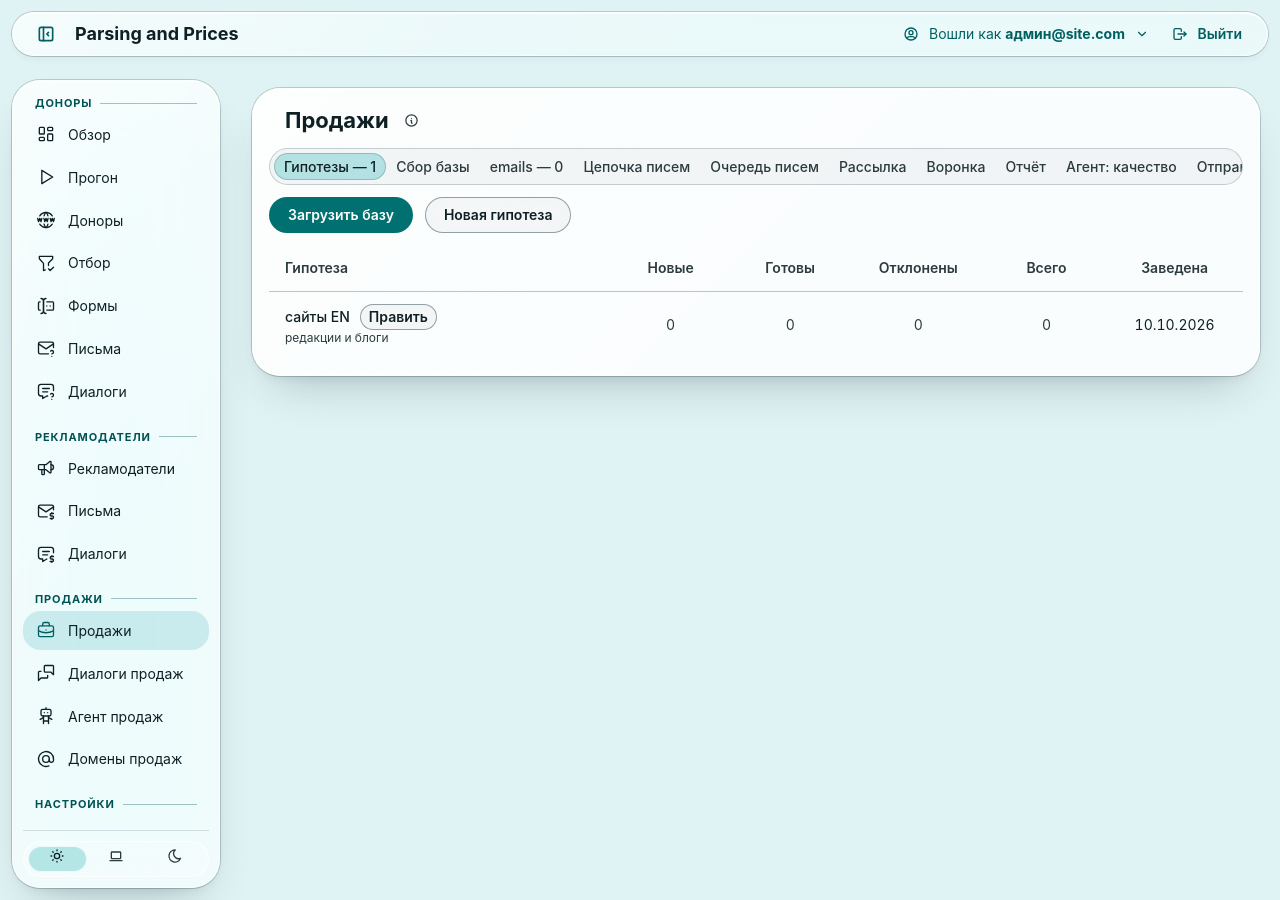
Test: новая гипотеза: вкладка «Гипотезы» › отказ сервера — словами над полями, набранное на месте, окно открыто
Expected: the text "сайты EN" is shown, [285, 307, 350, 327]
Click the button "Новая гипотеза" at (498, 216), box [425, 198, 572, 234]
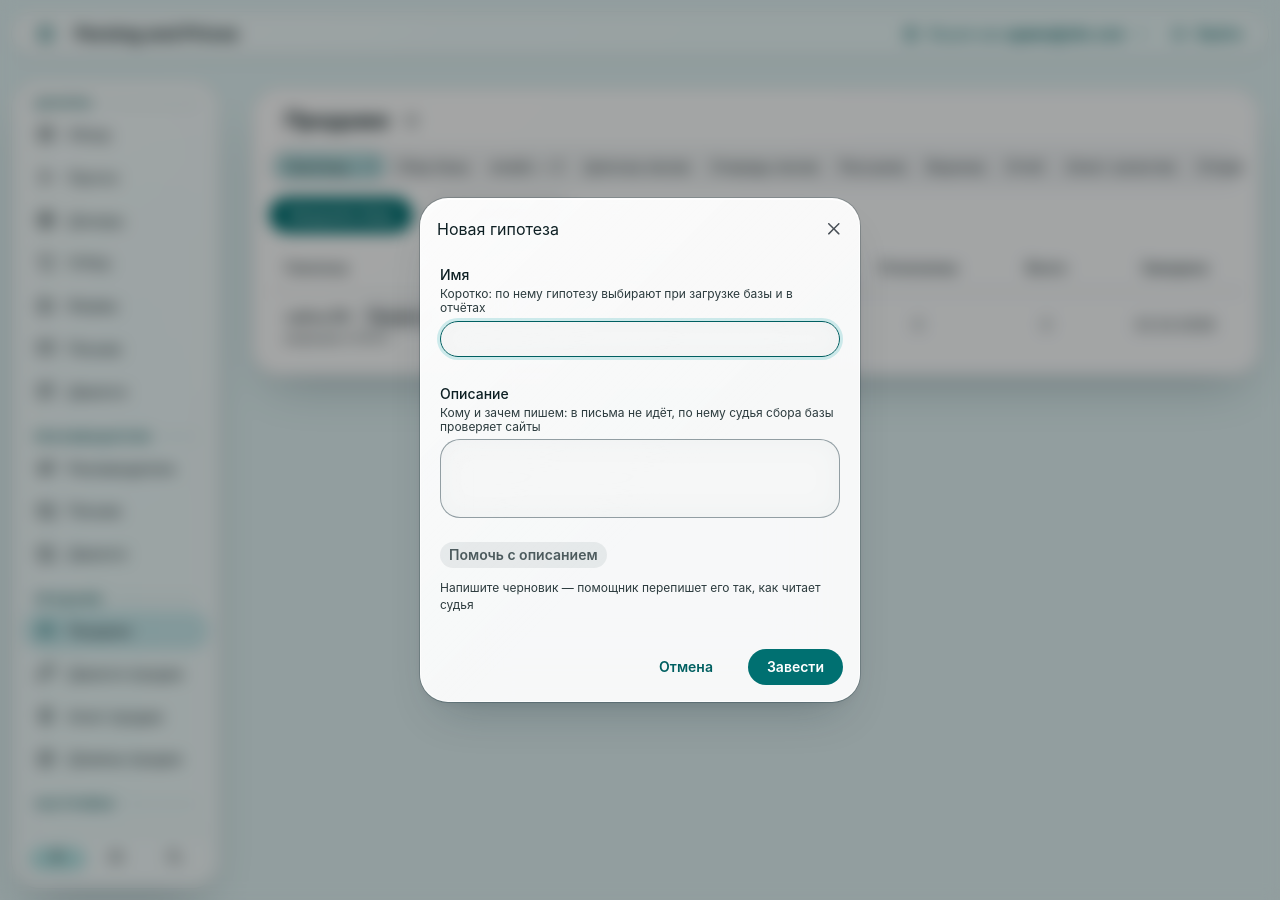
Type "сайты EN" into the field labelled "Имя" at (640, 339), box [440, 321, 840, 357]
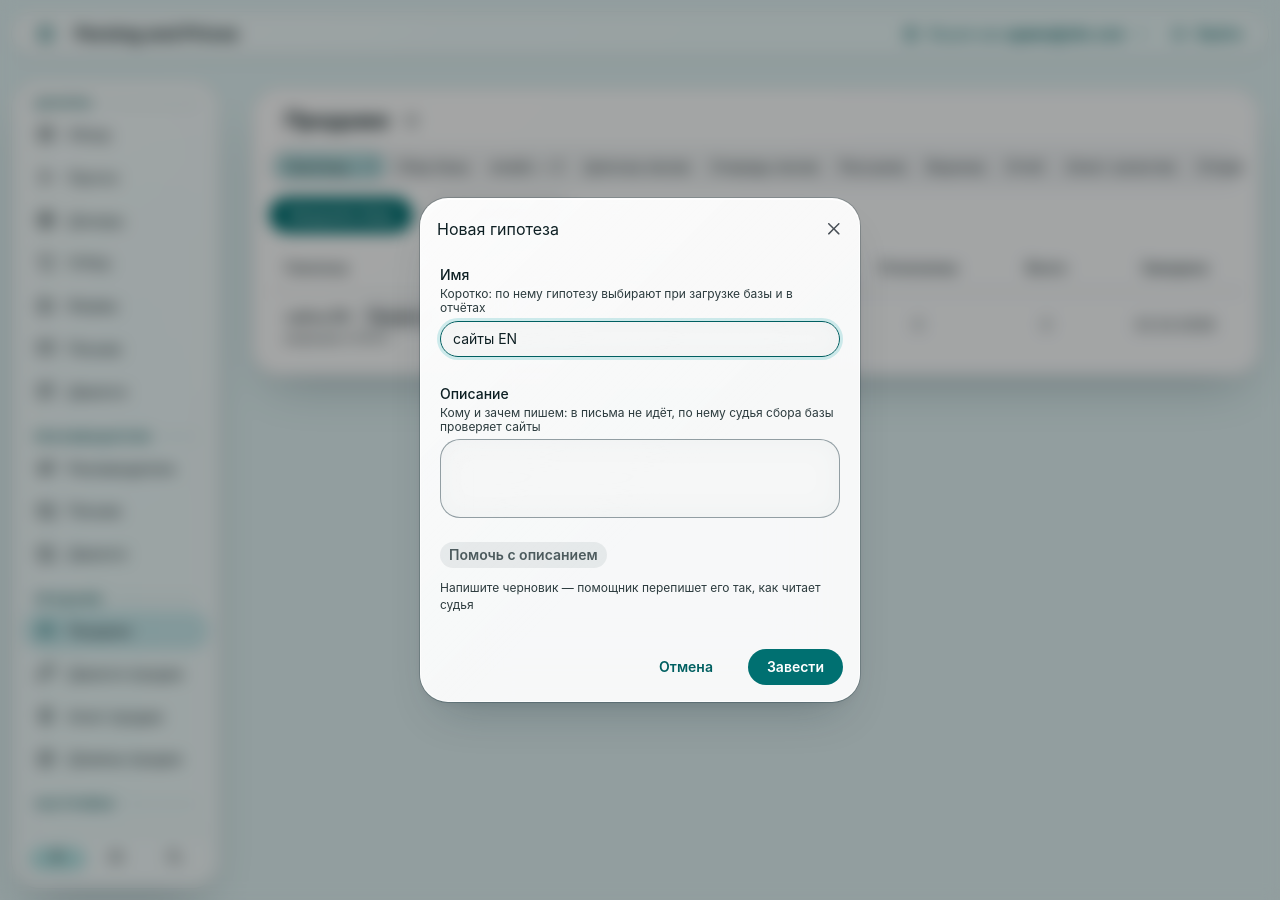
Click the button "Завести" at (796, 667), box [748, 649, 843, 685]
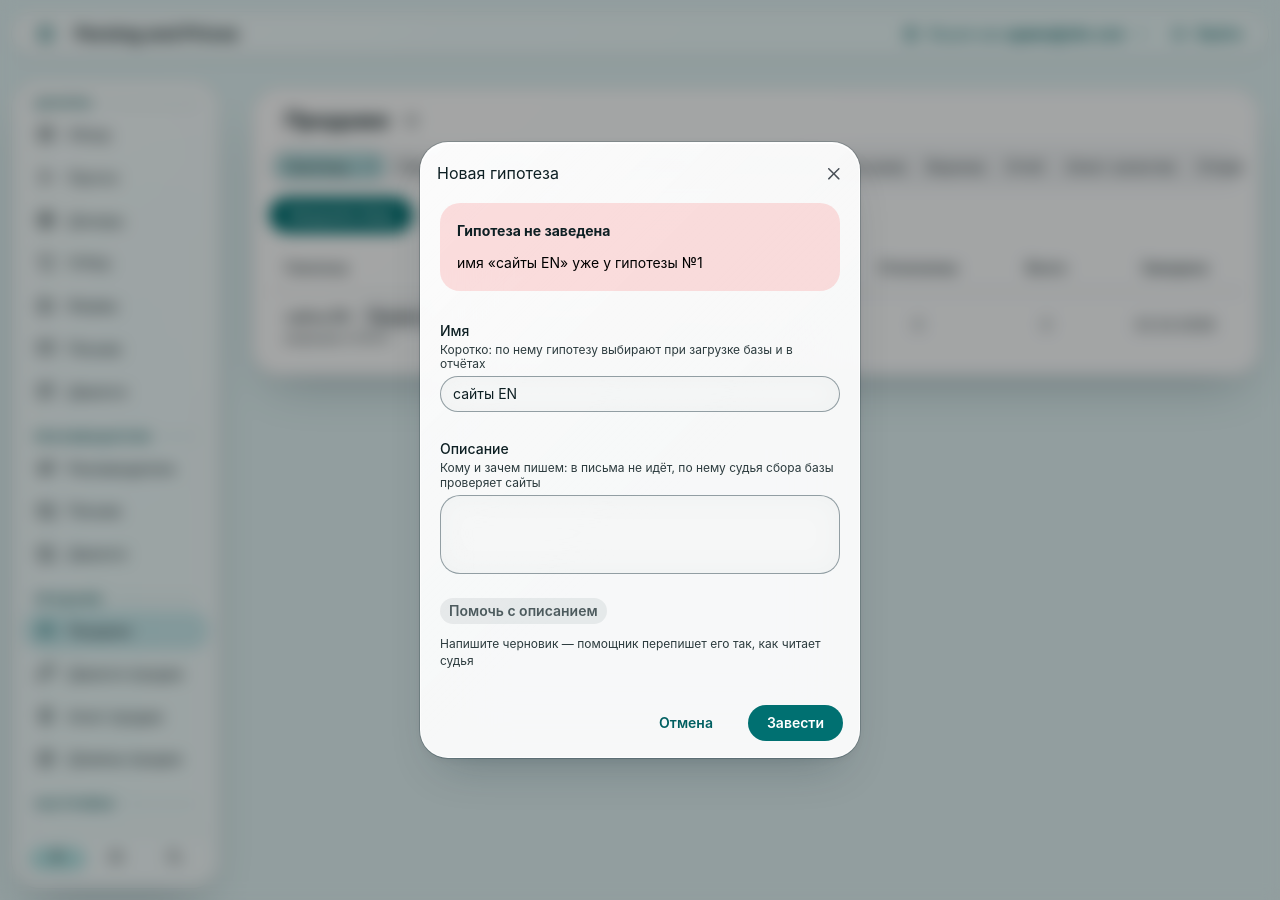
Now the text "Гипотеза не заведена" shows "имя «сайты EN» уже у гипотезы №1", box [457, 254, 703, 271]
